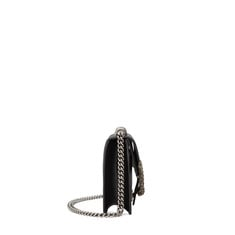Gucci: (100, 122, 147, 224), (131, 146, 146, 203)
